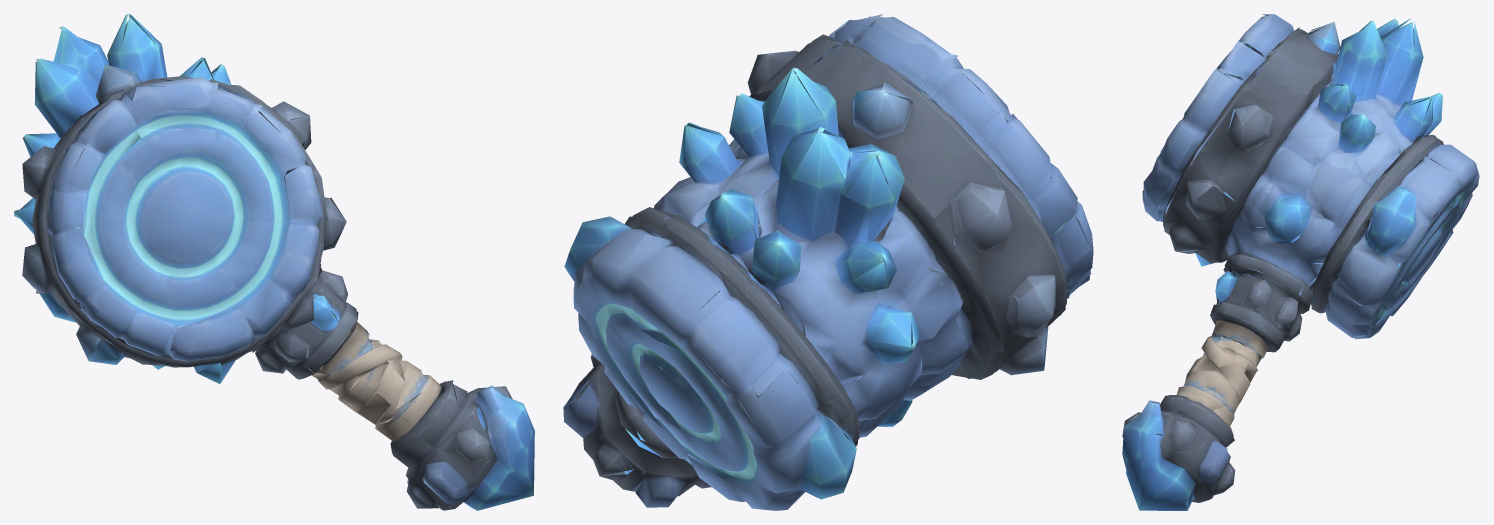
File: tll_ch3_seal.glb
3 views of the same model, side by side, from view 1: azimuth 30°, elevation 25°; view 2: azimuth 150°, elevation 25°; view 3: azimuth 270°, elevation 25° (orthographic). The views are drawn at different scales.
Parts seen in each view (by area): view 1: tripo_node_ddfc8b75-f2cc-4a65-8b3b-258073567664; view 2: tripo_node_ddfc8b75-f2cc-4a65-8b3b-258073567664; view 3: tripo_node_ddfc8b75-f2cc-4a65-8b3b-258073567664.
Boxes of the visible parts, x1,y1,x2,y2 form: tripo_node_ddfc8b75-f2cc-4a65-8b3b-258073567664: (14, 14, 534, 510); tripo_node_ddfc8b75-f2cc-4a65-8b3b-258073567664: (563, 14, 1093, 510); tripo_node_ddfc8b75-f2cc-4a65-8b3b-258073567664: (1122, 14, 1479, 510).
Size of the model in its own units: 0.9541 by 0.9771 by 0.805.
1 material, 1 textured.
